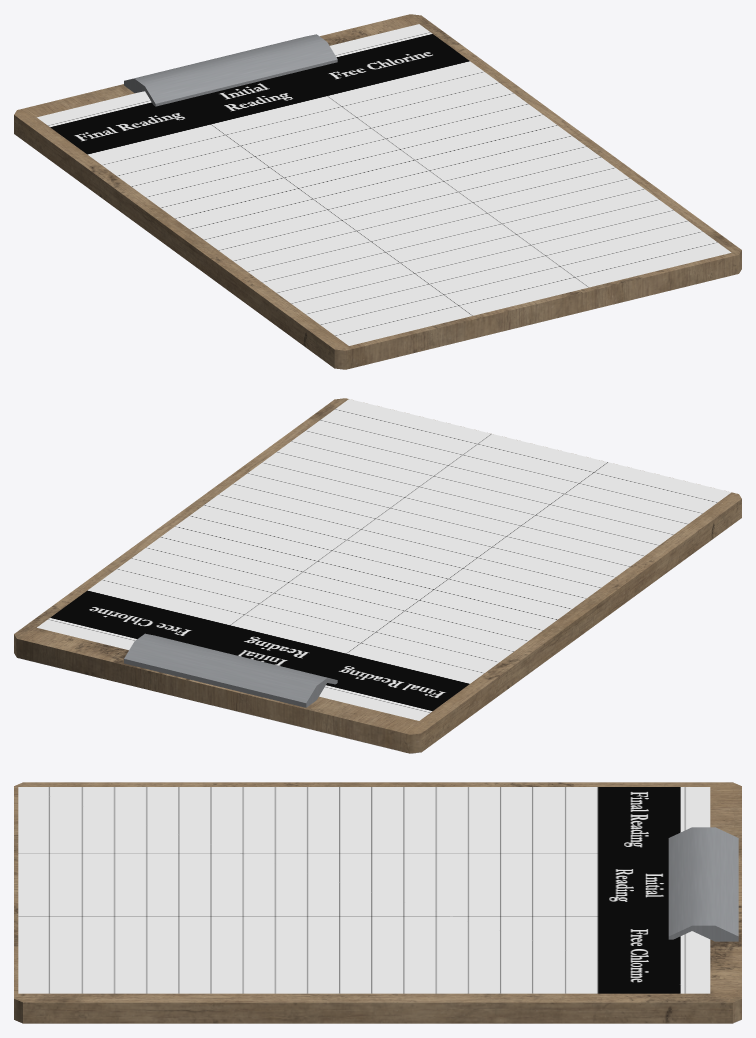
Rendered from clipBoardAnimation1.FBX.
The picture shows the model from 3 angles, top to bottom: view 1: azimuth 30°, elevation 25°; view 2: azimuth 150°, elevation 25°; view 3: azimuth 270°, elevation 25°; orthographic projection. The views are drawn at different scales.
Parts seen in each view (by area): view 1: Clipboard; view 2: Clipboard; view 3: Clipboard.
Boxes of the visible parts, x1,y1,x2,y2 form: Clipboard: (14, 14, 741, 369); Clipboard: (14, 398, 741, 753); Clipboard: (14, 782, 741, 1023).
Size of the model in its own units: 0.5679 by 0.0446 by 0.7937.
1 material, 1 textured.
